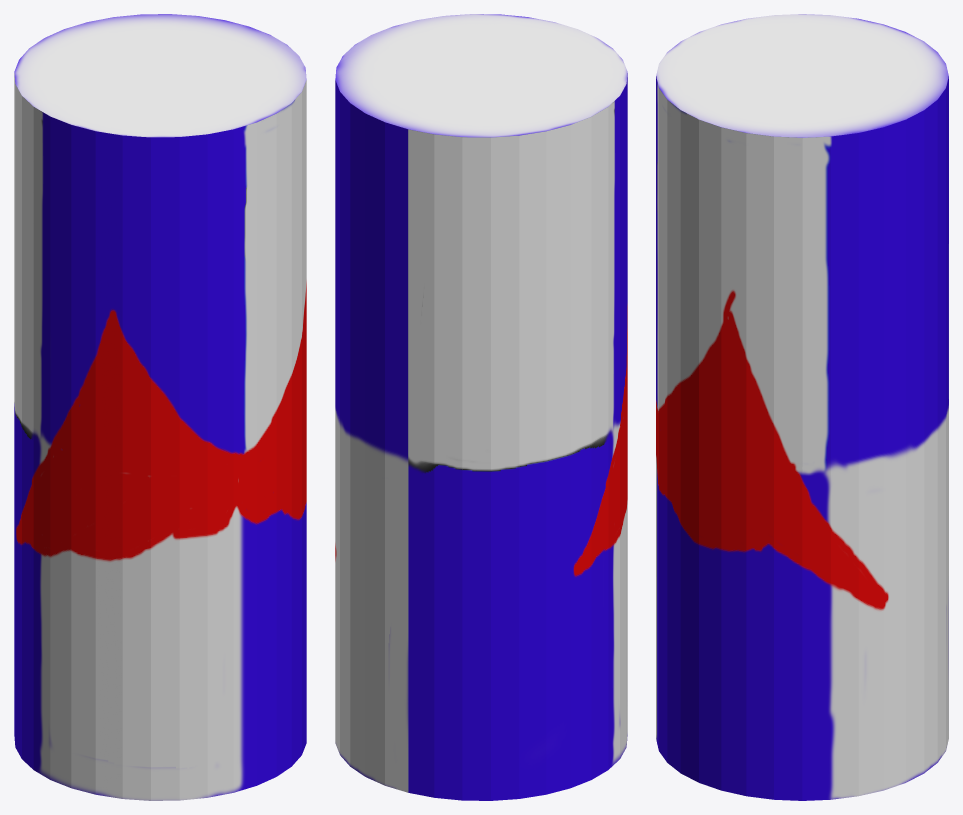
The model's file is redbull.fbx.
The picture shows the model from 3 angles, left to right: view 1: azimuth 30°, elevation 25°; view 2: azimuth 150°, elevation 25°; view 3: azimuth 270°, elevation 25°; orthographic projection.
Parts seen in each view (by area): view 1: 円柱; view 2: 円柱; view 3: 円柱.
Boxes of the visible parts, box(x1,y1,x2,y2) form: 円柱: box(14, 14, 306, 800); 円柱: box(335, 14, 627, 800); 円柱: box(656, 14, 948, 800).
Bounding box in the file's own units: 200 × 500 × 200.
Materials: 1 (1 with a texture image).
